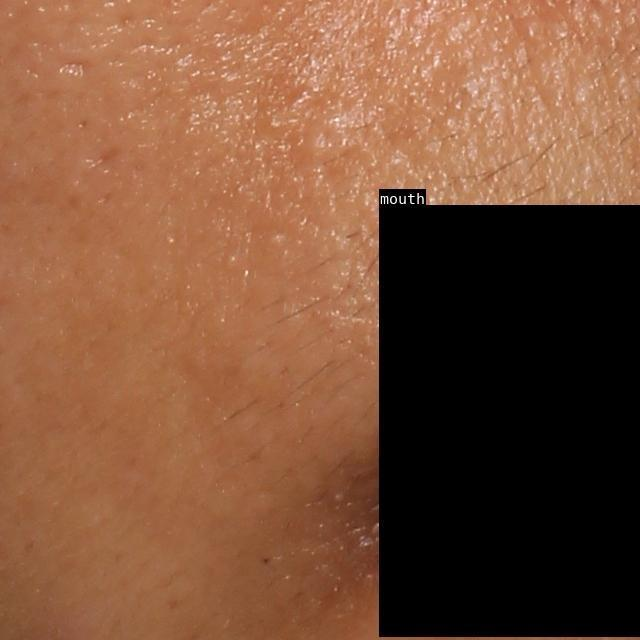atrophic_scar: (53, 60, 94, 79)
